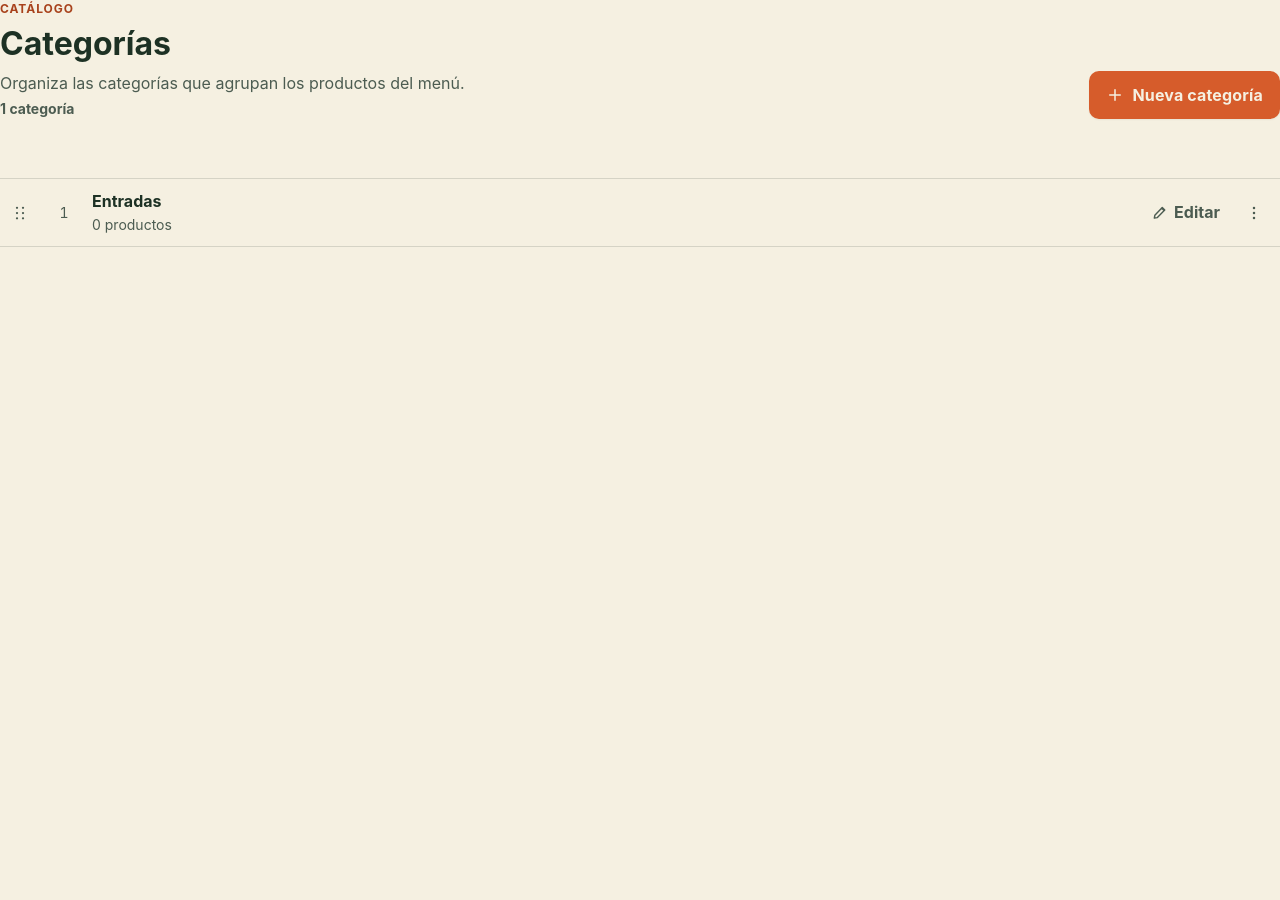
Test case: CategoryManagement › edits only after explicit action and does not enable save without changes
Step 1. Click the button "Editar" → (1186, 213), box left=1144, top=191, right=1228, bottom=235
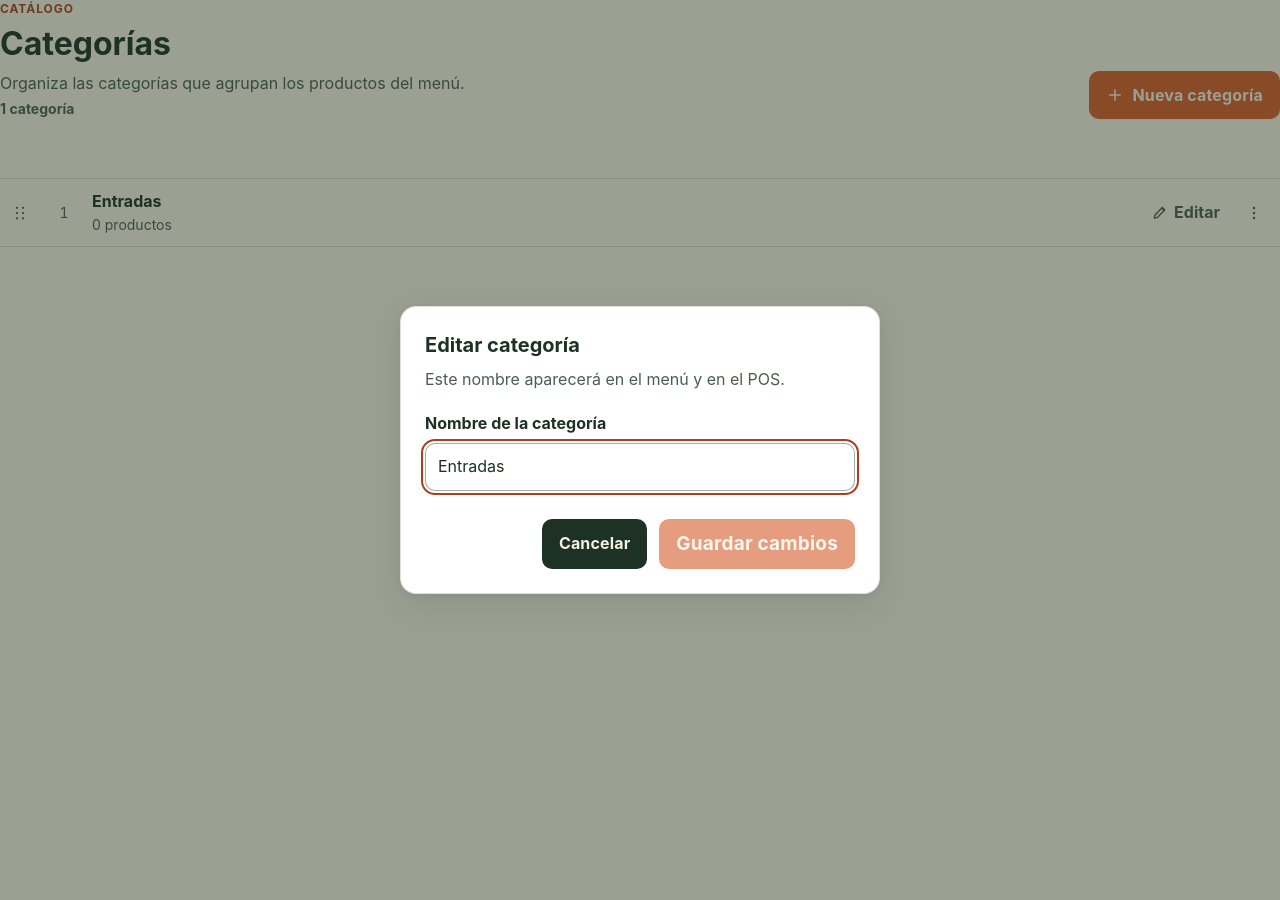
Result: the button "Guardar cambios" is disabled at left=659, top=519, right=855, bottom=569
Step 2. Replace the text in the field labelled "Nombre de la categoría" with "Platos" → (640, 467), box left=425, top=443, right=855, bottom=491
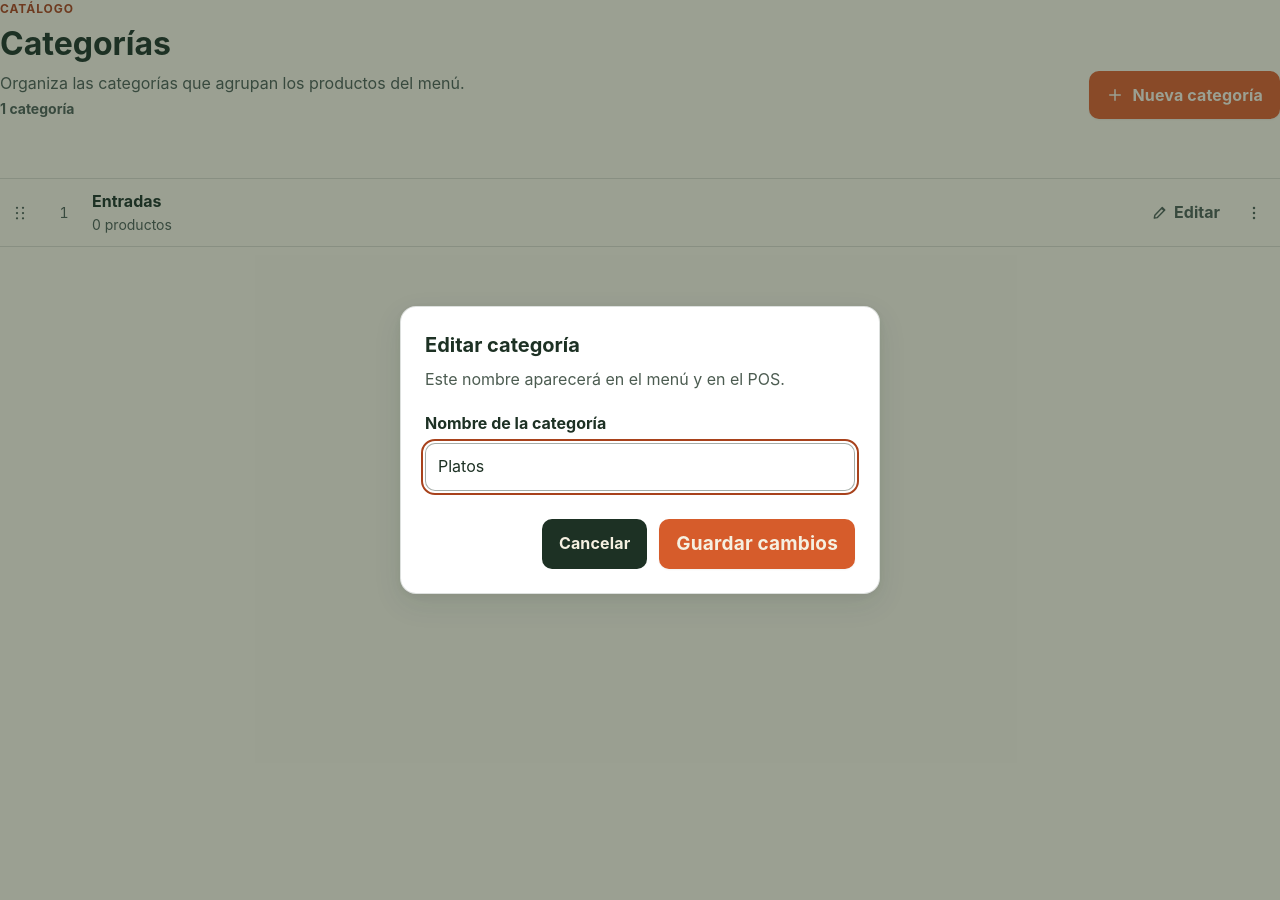
Result: the button "Guardar cambios" is enabled at left=659, top=519, right=855, bottom=569
